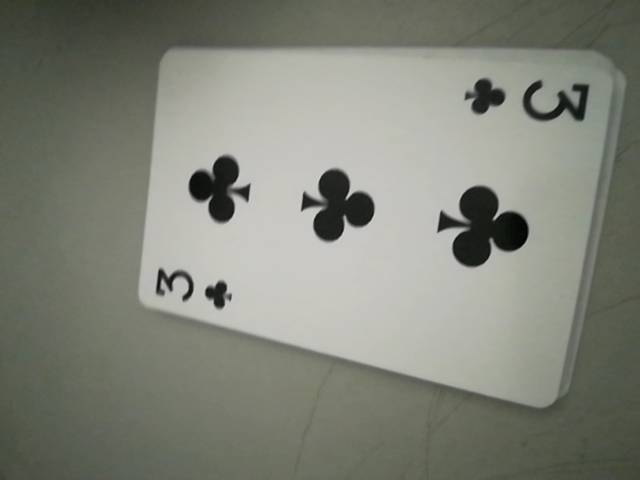mh 3: (461, 69, 591, 130), (151, 263, 239, 315)
